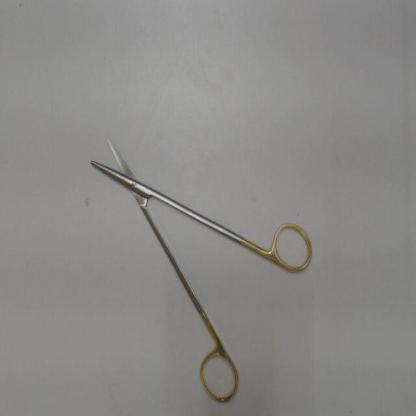7 Metzenbaum Scissors: (84, 126, 316, 411)
